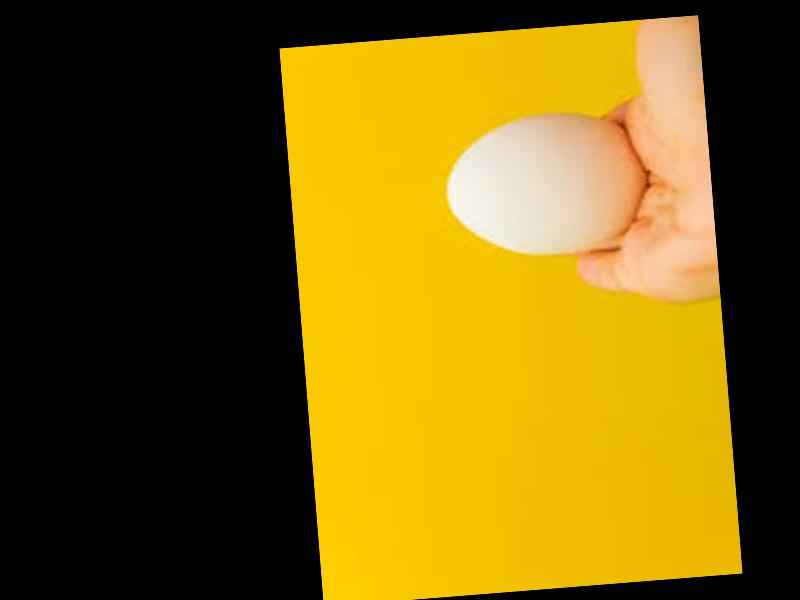Eggs: (440, 112, 650, 261)
